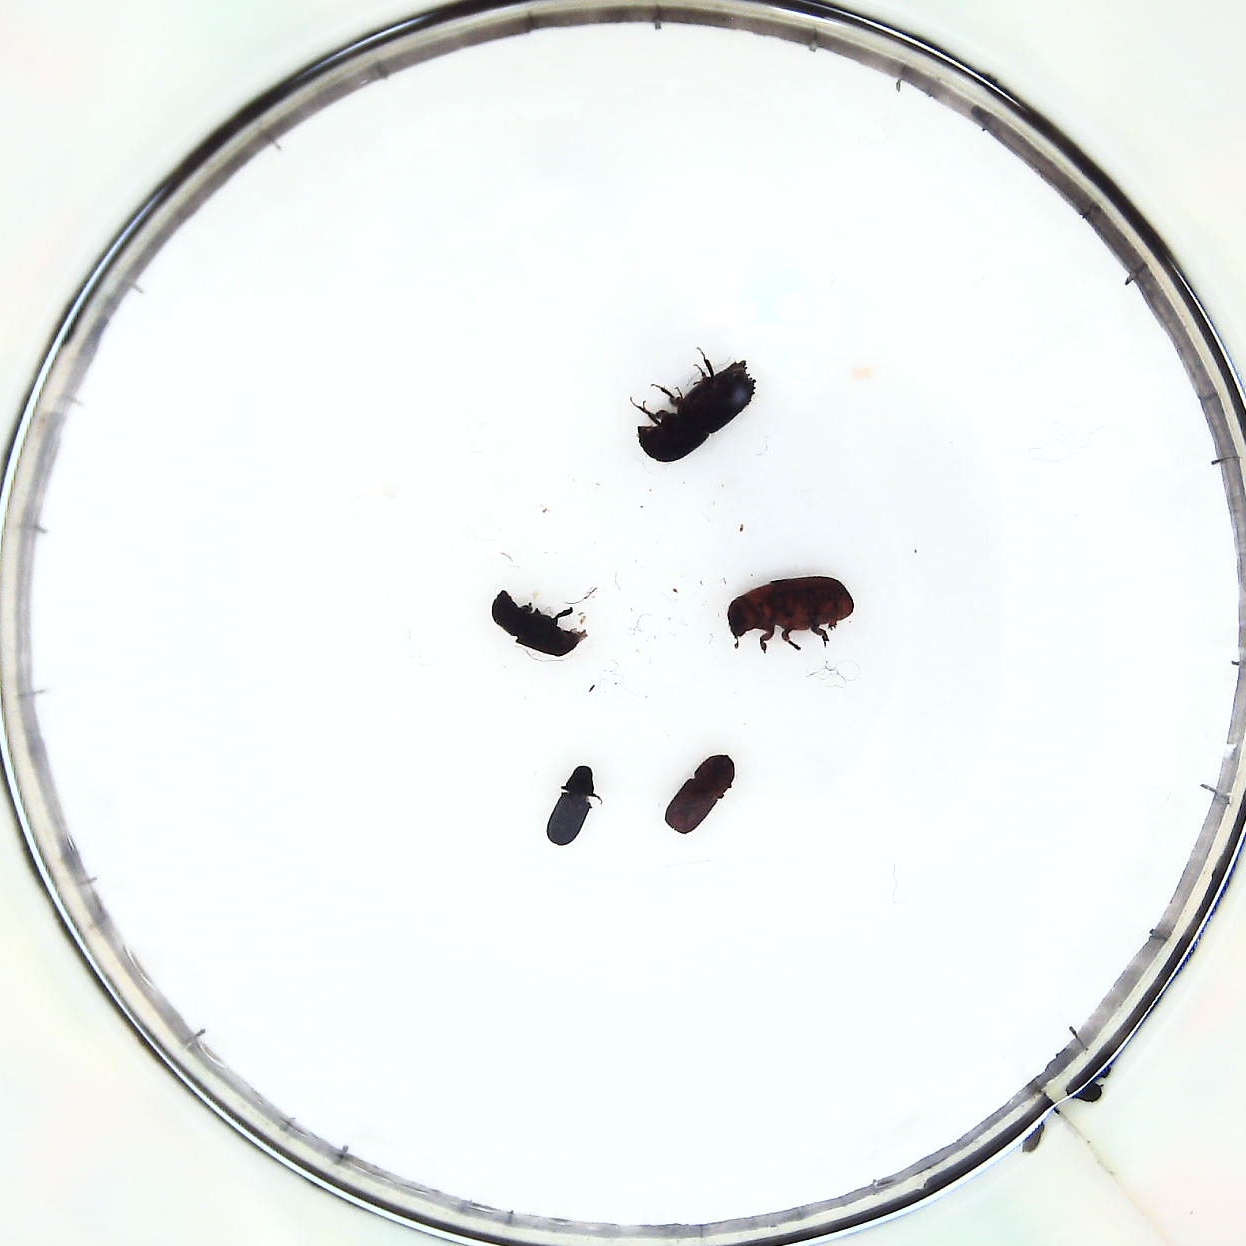Boerner: (634, 362, 758, 467)
Leconte: (726, 572, 857, 657)
Linnaeus: (492, 581, 586, 660)
armandi: (660, 751, 735, 833)
coleoptera: (545, 764, 598, 845)
